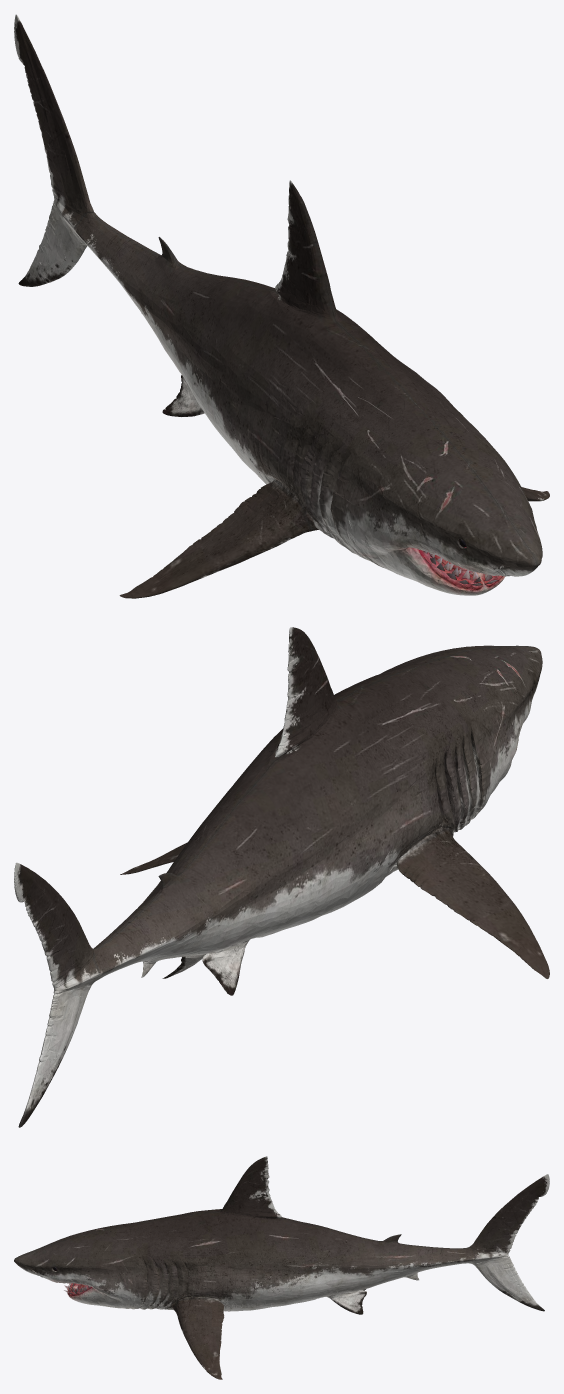
Rendered from shark_modelo.glb.
3 views of the same model, one above another, from view 1: azimuth 30°, elevation 25°; view 2: azimuth 150°, elevation 25°; view 3: azimuth 270°, elevation 25° (orthographic). The views are drawn at different scales.
Parts seen in each view (by area): view 1: body_body1_0; view 2: body_body1_0; view 3: body_body1_0.
Boxes of the visible parts, box(x1,y1,x2,y2) form: body_body1_0: box(14, 14, 549, 598); body_body1_0: box(14, 627, 549, 1127); body_body1_0: box(14, 1156, 549, 1379).
Bounding box in the file's own units: 28.84 × 21.36 × 60.95.
3 materials, 3 textured.
